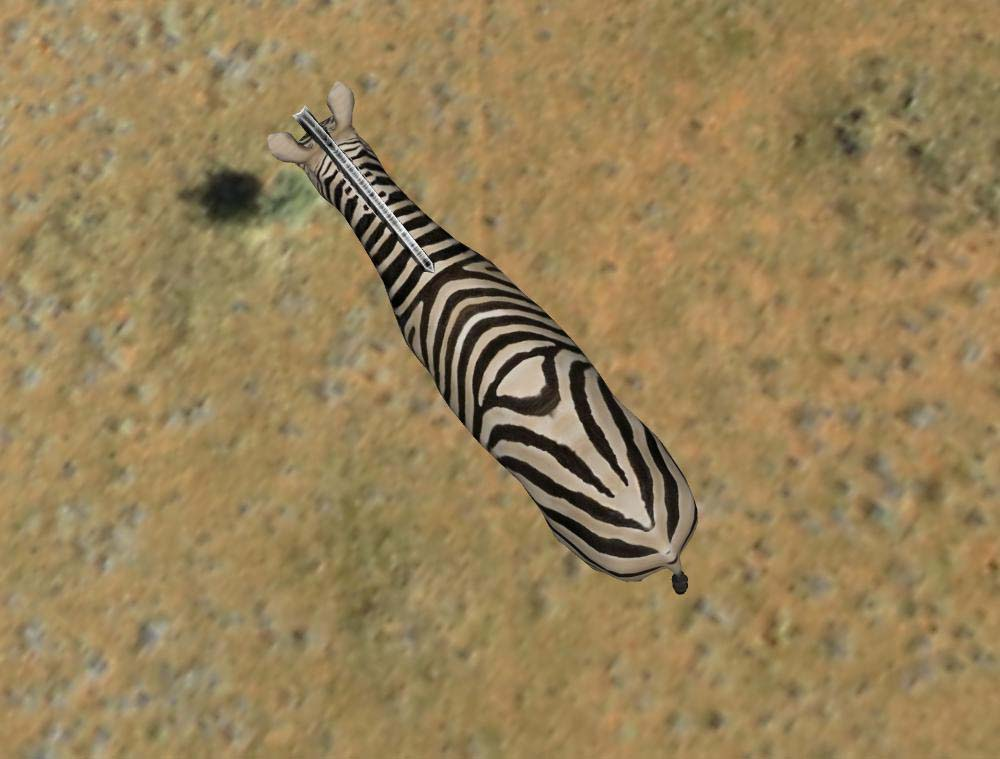zebra: (263, 76, 703, 603)
